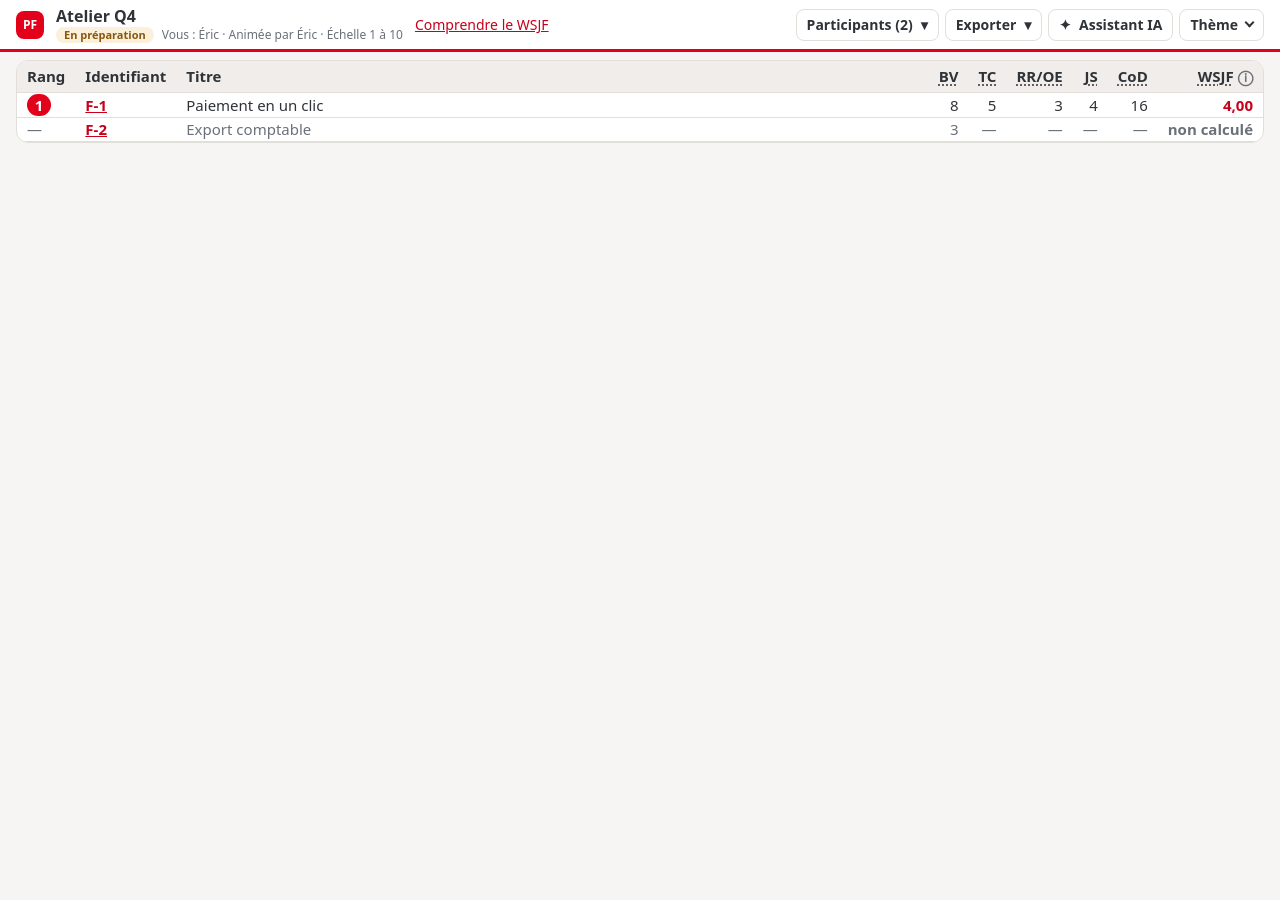
Test case: BoardComponent › opens the detail panel on the id and shows the full description only
Click the button with class "fid" showing "F-1" at (96, 105), box [85,94,107,116]
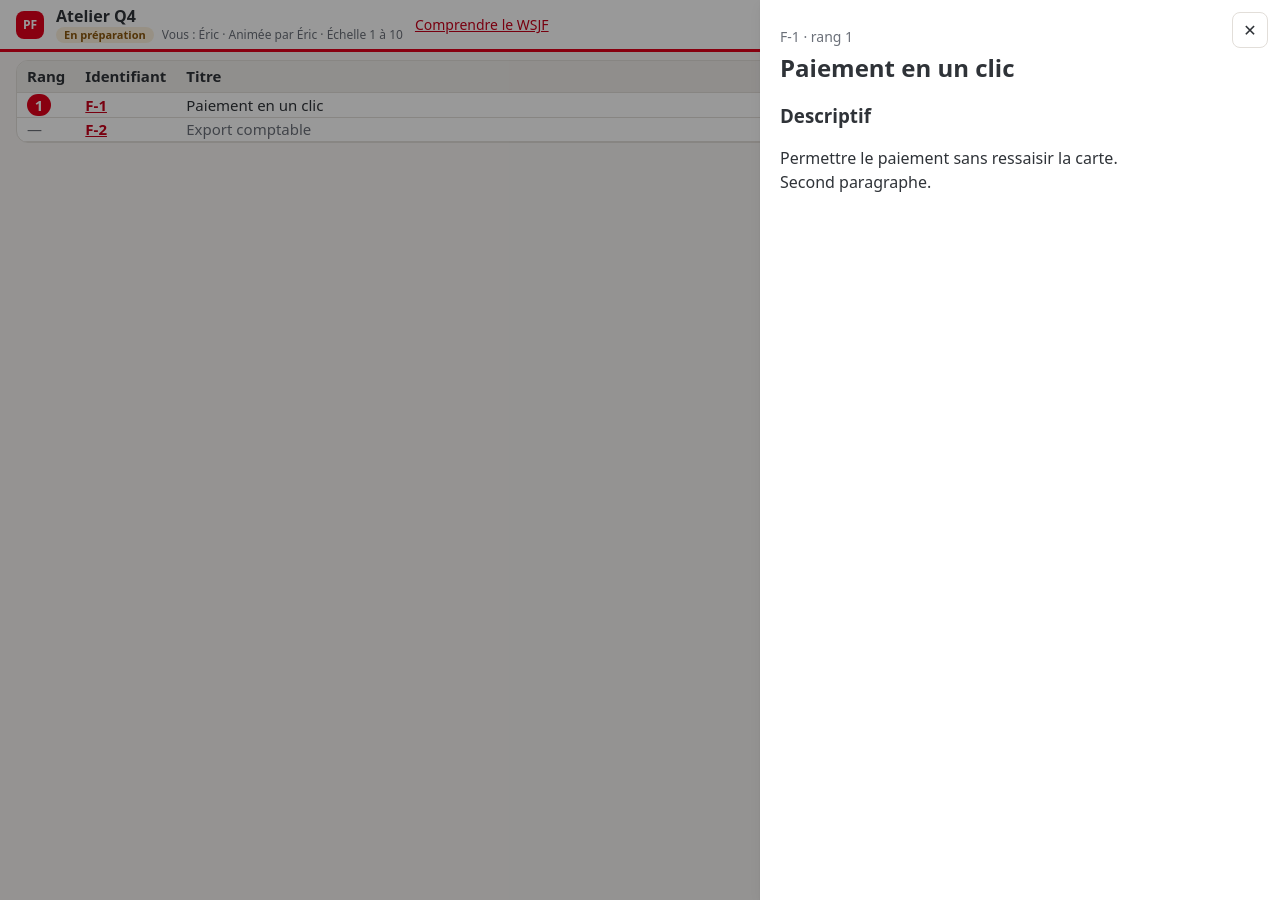
Check: the cell "Paiement en un clic" is shown, box [176,92,929,118]
Check: the dialog is shown, box [760,0,1279,899]
Check: the text with class "description" shows "Second paragraphe.", box [780,147,1118,193]
